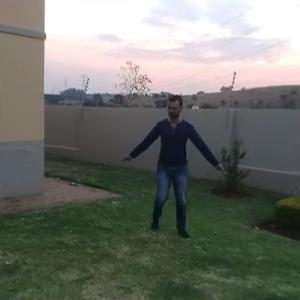land: (122, 87, 224, 239)
